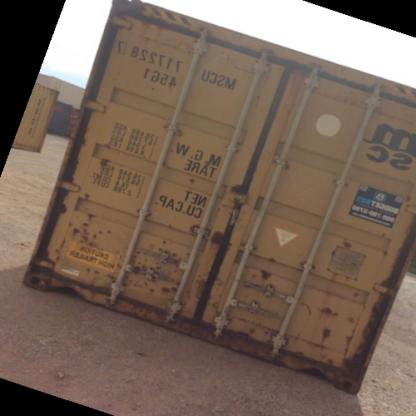Damage: (50, 210, 122, 297), (128, 236, 190, 305), (225, 312, 266, 346), (137, 15, 172, 40), (328, 232, 361, 258), (200, 224, 233, 249), (298, 333, 328, 360), (293, 293, 314, 320), (344, 314, 358, 344), (280, 153, 295, 180), (252, 267, 276, 283), (318, 301, 339, 317), (378, 241, 393, 262), (350, 285, 366, 303), (318, 324, 335, 340), (186, 171, 201, 187), (78, 187, 95, 201), (97, 154, 111, 169), (58, 198, 68, 212), (266, 252, 278, 262)
